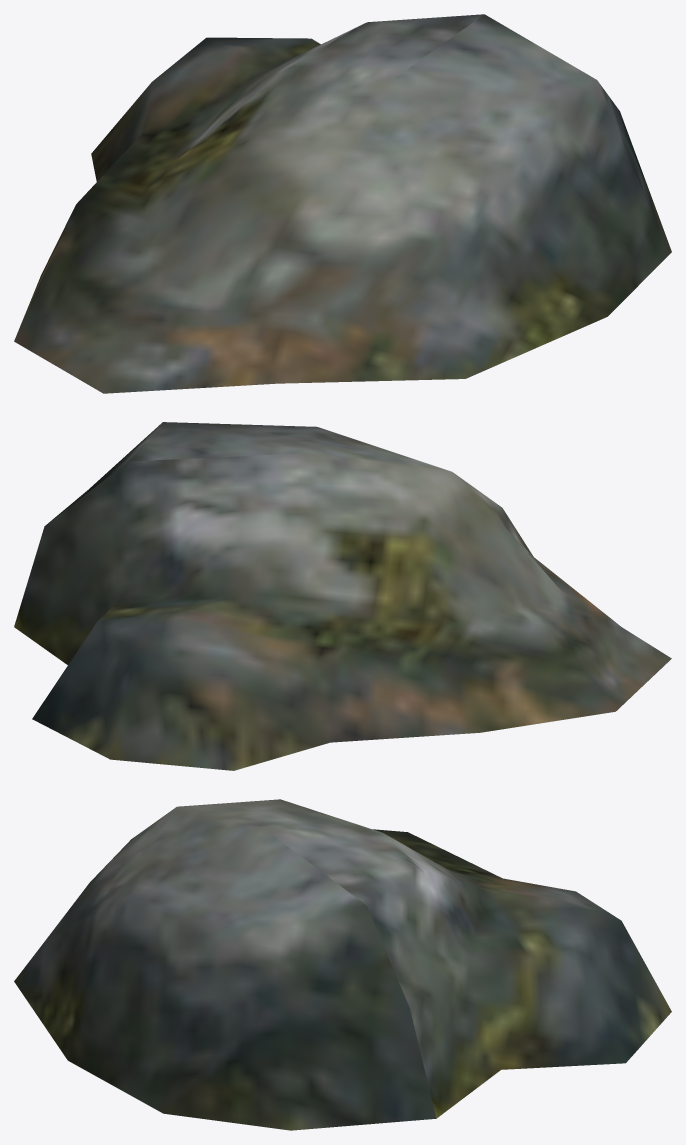
Rendered from BattleField_V4_100204_shitou04.FBX.
The picture shows the model from 3 angles, top to bottom: view 1: azimuth 30°, elevation 25°; view 2: azimuth 150°, elevation 25°; view 3: azimuth 270°, elevation 25°; orthographic projection. The views are drawn at different scales.
Parts seen in each view (by area): view 1: Object007; view 2: Object007; view 3: Object007.
Part boxes in pixels (x1,y1,x2,y2): Object007: (14, 14, 671, 393); Object007: (14, 422, 671, 770); Object007: (14, 799, 671, 1130).
Size of the model in its own units: 37.88 by 10.82 by 36.48.
